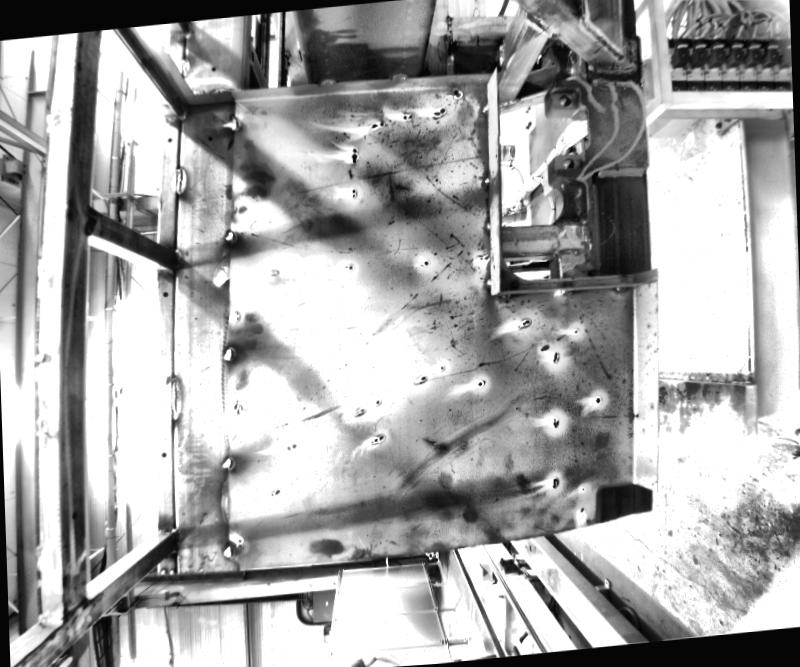hole: (562, 156, 575, 170), (559, 93, 570, 107), (160, 450, 166, 459), (162, 289, 168, 297), (212, 62, 216, 70), (167, 137, 172, 143), (207, 136, 212, 140), (172, 538, 176, 542)
welding: (580, 16, 620, 64), (522, 10, 551, 41), (166, 373, 178, 421), (172, 166, 186, 195), (170, 528, 181, 558), (221, 226, 237, 246), (226, 112, 240, 133), (178, 57, 188, 74), (556, 287, 572, 296), (222, 348, 232, 362), (223, 454, 233, 468), (481, 100, 490, 114), (222, 544, 232, 556), (484, 274, 491, 288), (614, 284, 626, 292), (484, 218, 490, 232), (483, 171, 489, 184), (499, 294, 511, 299)
